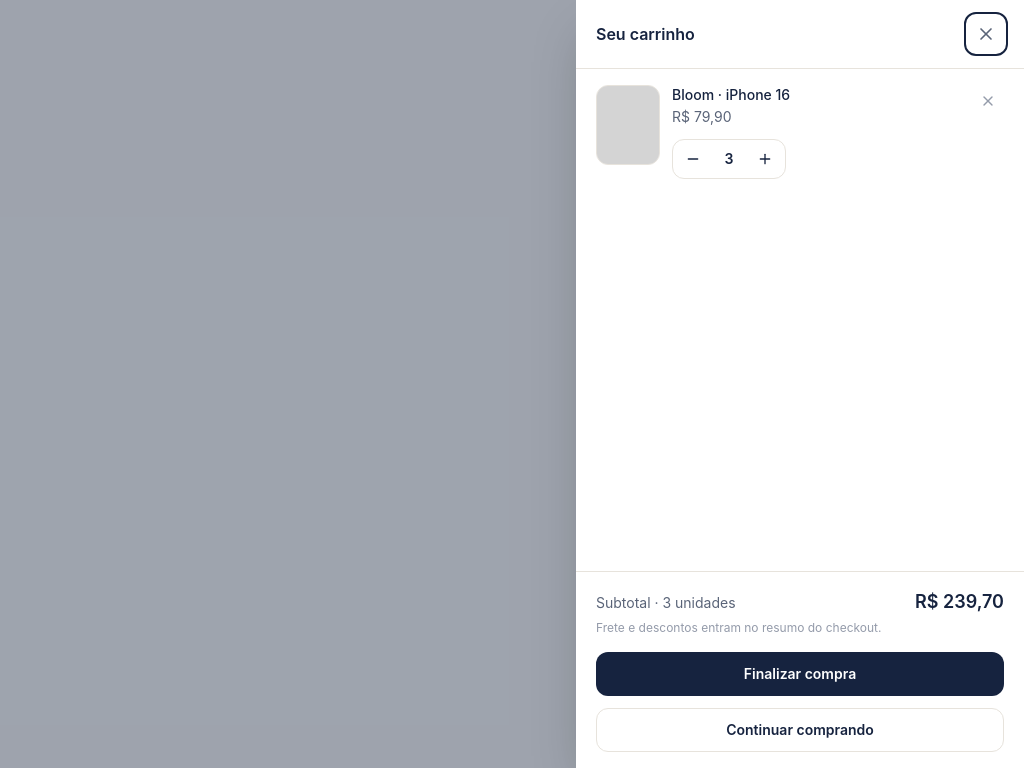
Test: CartDrawer › follows the subtotal when a line changes quantity
The width and height of the screenshot is (1024, 768).
Check: the text "R$ 239,70" is shown, box [915,588,1004,616]
Click the button named "Diminuir quantidade de Bloom · iPhone 16": (693,159) [673,140,713,178]
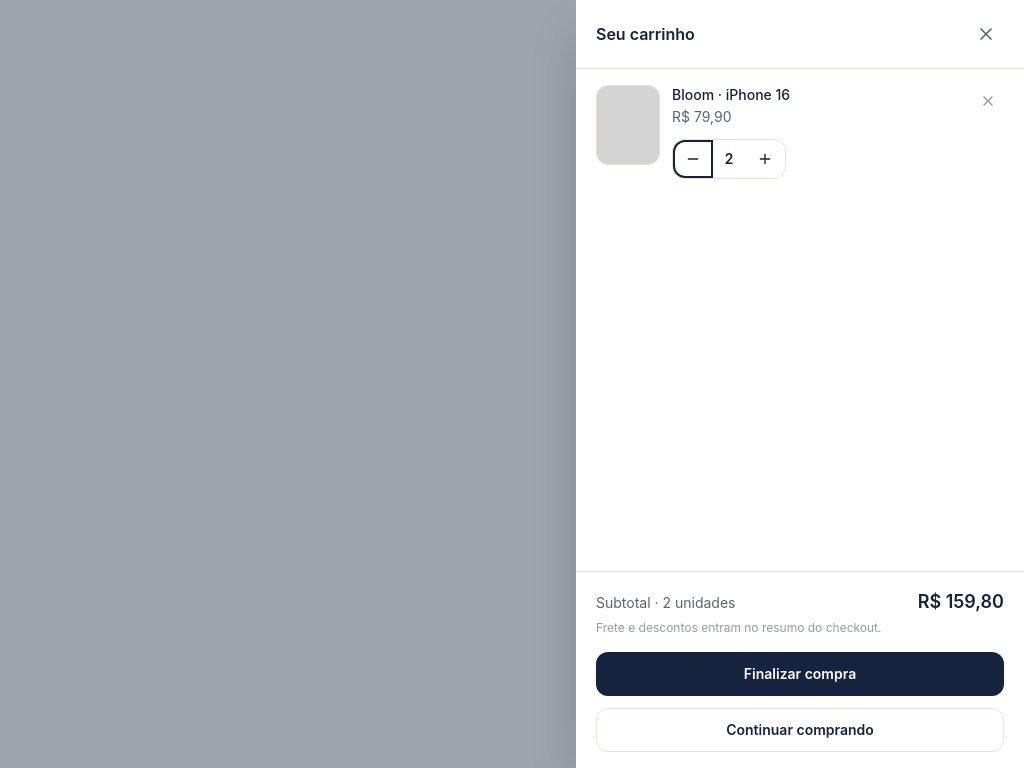
Check: the text "R$ 159,80" is shown, box [918,588,1004,616]
